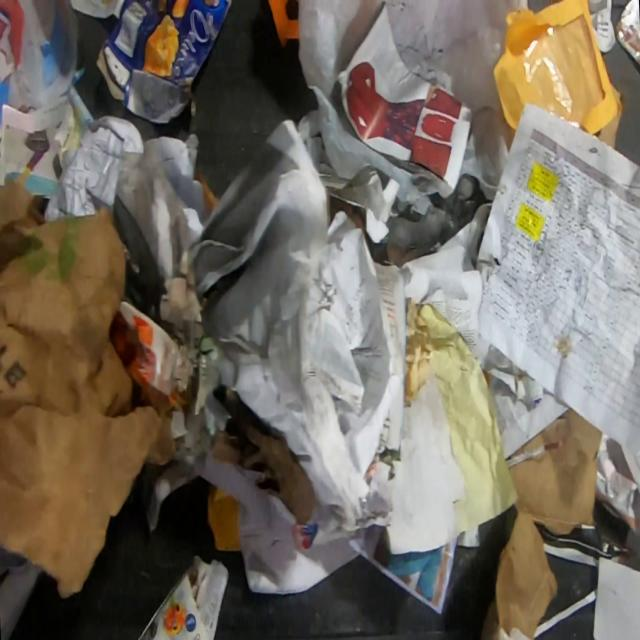cardboard: (0, 174, 178, 603), (480, 405, 602, 640), (111, 265, 226, 420), (94, 0, 235, 126), (210, 385, 316, 524)
rigid_plastic: (266, 0, 299, 50)
soft_plastic: (296, 0, 529, 218), (522, 12, 604, 129)
